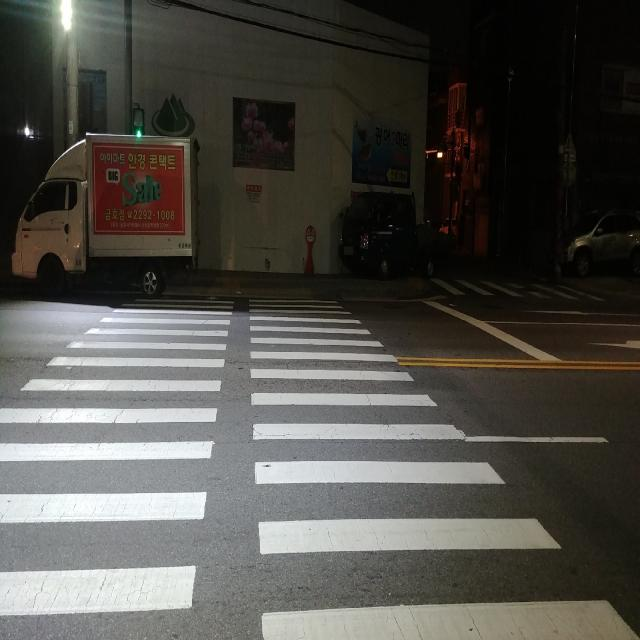횡단보도: (0, 296, 640, 639)
